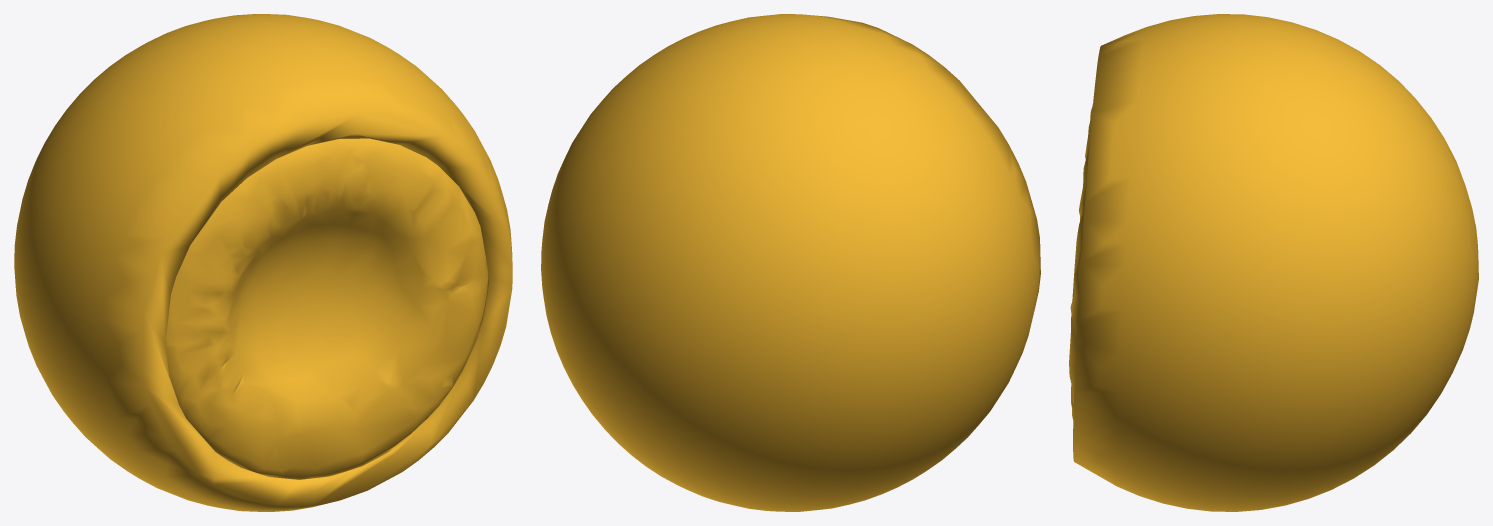
The model's file is nervoso-posterior-segment-of-eyeball-r.glb.
3 views of the same model, side by side, from view 1: azimuth 30°, elevation 25°; view 2: azimuth 150°, elevation 25°; view 3: azimuth 270°, elevation 25° (orthographic).
Parts seen in each view (by area): view 1: Posterior segment of eyeball.r, Vitreous body.r; view 2: Posterior segment of eyeball.r; view 3: Posterior segment of eyeball.r, Vitreous body.r.
Boxes of the visible parts, x1,y1,x2,y2 form: Posterior segment of eyeball.r: [14, 14, 512, 511]; Vitreous body.r: [165, 138, 487, 479]; Posterior segment of eyeball.r: [541, 14, 1040, 511]; Posterior segment of eyeball.r: [1073, 14, 1478, 511]; Vitreous body.r: [1069, 104, 1092, 419].
Size of the model in its own units: 0.0239 by 0.0239 by 0.0196.
